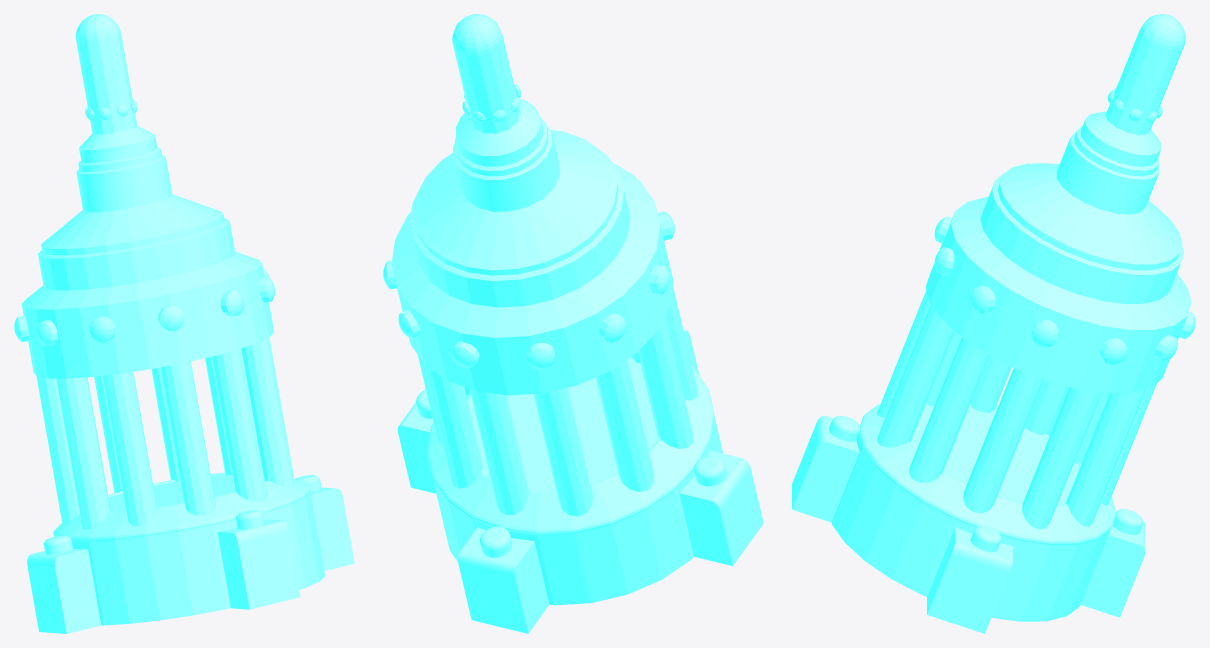
Rendered from JGG_top_glass.gltf.
3 views of the same model, side by side, from view 1: azimuth 30°, elevation 25°; view 2: azimuth 150°, elevation 25°; view 3: azimuth 270°, elevation 25° (orthographic). The views are drawn at different scales.
Parts seen in each view (by area): view 1: 원기둥 (×2), bottom_원, 큐브 (×3), 캡슐, 원기둥.4, 원기둥.5, 원기둥.3, 원기둥.6, 원기둥.7, 원기둥.2, 원기둥.10, 원기둥.11 (+4 smaller); view 2: 원기둥 (×2), bottom_원, 큐브 (×3), 원기둥.1 (×3), 캡슐, 원기둥.2, 원기둥.11, 원기둥.3, 원기둥.10, 원기둥.4, 오일탱크.1, 오일탱크.2 (+1 smaller); view 3: 원기둥 (×2), bottom_원, 큐브 (×3), 캡슐, 원기둥.8, 원기둥.7, 원기둥.9, 원기둥.6, 원기둥.10, 원기둥.1 (×4), 원기둥.2, 원기둥.3 (+6 smaller).
Boxes of the visible parts, x1=… form: 원기둥 (×2): x1=21, y1=126, x2=274, y2=378; bottom_원: x1=53, y1=472, x2=324, y2=625; 큐브 (×3): x1=27, y1=487, x2=354, y2=633; 캡슐: x1=76, y1=14, x2=137, y2=134; 원기둥.4: x1=103, y1=372, x2=157, y2=525; 원기둥.5: x1=161, y1=361, x2=215, y2=515; 원기둥.3: x1=56, y1=377, x2=110, y2=529; 원기둥.6: x1=212, y1=348, x2=267, y2=501; 원기둥.7: x1=241, y1=337, x2=295, y2=487; 원기둥.2: x1=36, y1=376, x2=79, y2=525; 원기둥.10: x1=151, y1=367, x2=180, y2=481; 원기둥.11: x1=94, y1=375, x2=122, y2=492; 원기둥 (×2): x1=391, y1=98, x2=673, y2=395; bottom_원: x1=427, y1=357, x2=723, y2=605; 큐브 (×3): x1=397, y1=389, x2=763, y2=633; 원기둥.1 (×3): x1=480, y1=387, x2=726, y2=557; 캡슐: x1=452, y1=14, x2=520, y2=133; 원기둥.2: x1=596, y1=359, x2=654, y2=491; 원기둥.11: x1=469, y1=389, x2=528, y2=514; 원기둥.3: x1=638, y1=316, x2=693, y2=448; 원기둥.10: x1=423, y1=363, x2=483, y2=488; 원기둥.4: x1=665, y1=287, x2=697, y2=400; 오일탱크.1: x1=526, y1=343, x2=555, y2=369; 오일탱크.2: x1=599, y1=313, x2=626, y2=342; 원기둥 (×2): x1=926, y1=111, x2=1191, y2=393; bottom_원: x1=831, y1=403, x2=1116, y2=621; 큐브 (×3): x1=792, y1=415, x2=1145, y2=633; 캡슐: x1=1105, y1=14, x2=1185, y2=135; 원기둥.8: x1=963, y1=368, x2=1043, y2=513; 원기둥.7: x1=909, y1=338, x2=989, y2=482; 원기둥.9: x1=1022, y1=387, x2=1101, y2=529; 원기둥.6: x1=877, y1=304, x2=954, y2=447; 원기둥.10: x1=1065, y1=389, x2=1146, y2=526; 원기둥.1 (×4): x1=829, y1=393, x2=1142, y2=552; 원기둥.2: x1=1025, y1=380, x2=1069, y2=435; 원기둥.3: x1=970, y1=356, x2=1011, y2=412.
Size of the model in its own units: 510 by 949 by 590.
